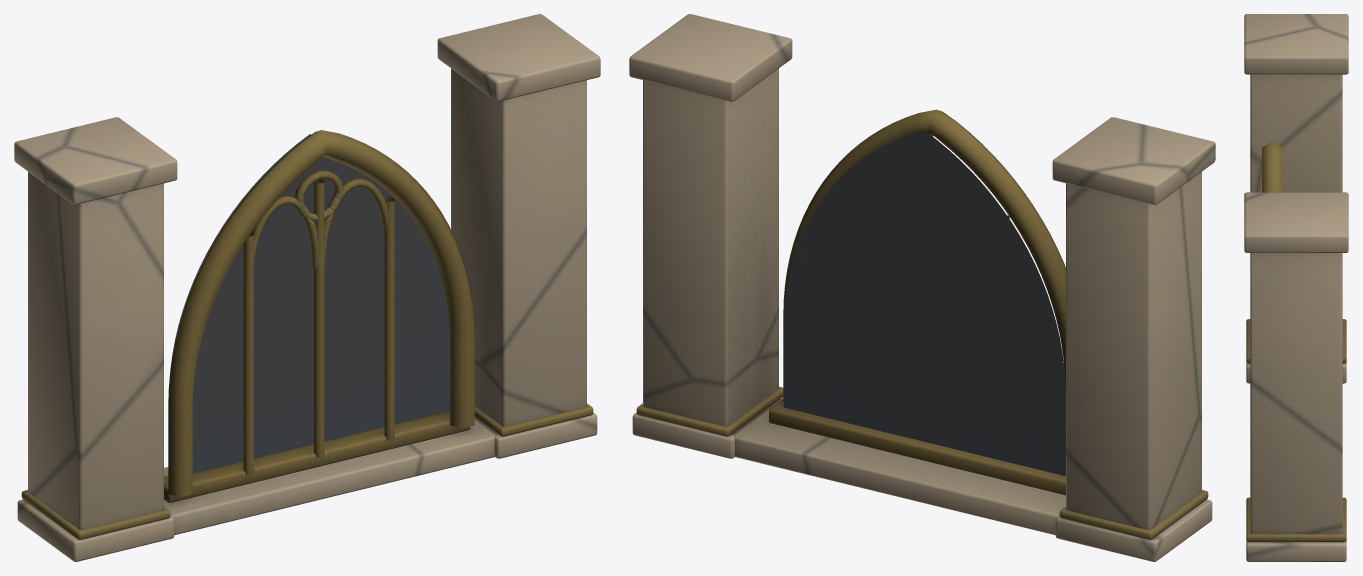
File: marble_window.glb
The picture shows the model from 3 angles, left to right: view 1: azimuth 30°, elevation 25°; view 2: azimuth 150°, elevation 25°; view 3: azimuth 270°, elevation 25°; orthographic projection. The views are drawn at different scales.
Parts seen in each view (by area): view 1: marble_window; view 2: marble_window; view 3: marble_window.
Boxes of the visible parts, x1,y1,x2,y2 form: marble_window: [14, 14, 600, 561]; marble_window: [629, 14, 1215, 561]; marble_window: [1244, 14, 1348, 561].
Bounding box in the file's own units: 2.62 × 1.8 × 0.52.
1 material, 1 textured.
